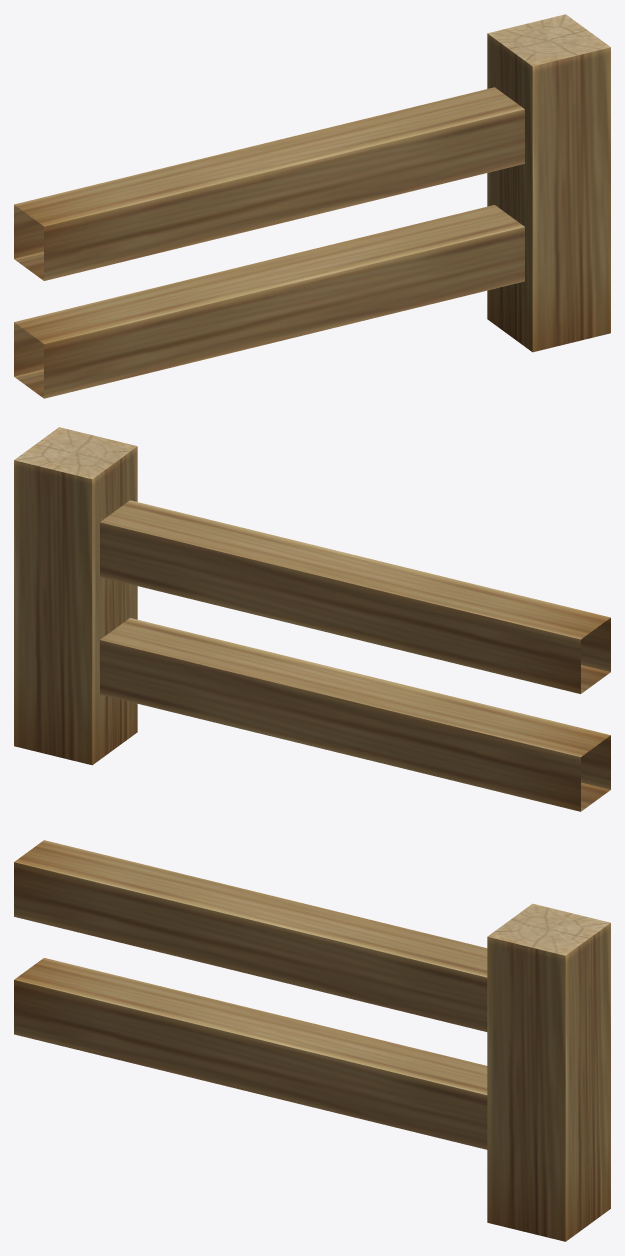
File: WoodFence02.FBX
3 views of the same model, one above another, from view 1: azimuth 30°, elevation 25°; view 2: azimuth 150°, elevation 25°; view 3: azimuth 330°, elevation 25° (orthographic).
Visible parts, largest first — view 1: WoodFence02; view 2: WoodFence02; view 3: WoodFence02.
Boxes of the visible parts, x1,y1,x2,y2 form: WoodFence02: (14, 14, 610, 398); WoodFence02: (14, 427, 610, 811); WoodFence02: (14, 840, 610, 1241).
Size of the model in its own units: 168 by 82.06 by 23.55.
